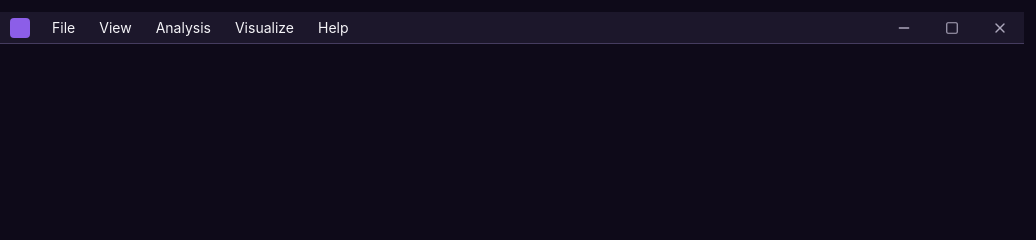
Test case: MenuBar › opens a dropdown on click
Click the button "File". click: [64, 28]
box: [40, 12, 87, 43]
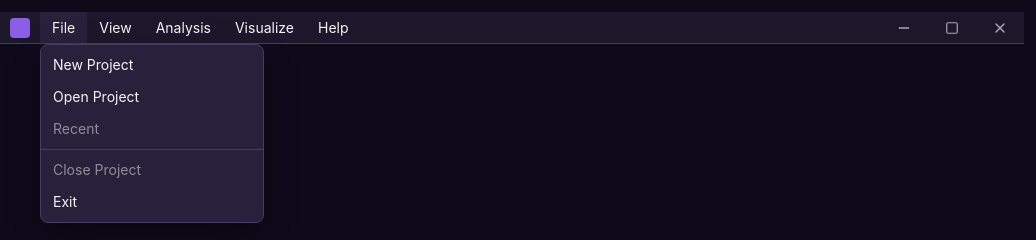
Check: the menu is shown, box [40, 44, 264, 223]
Check: the menu item "New Project" is shown, box [41, 49, 263, 81]
